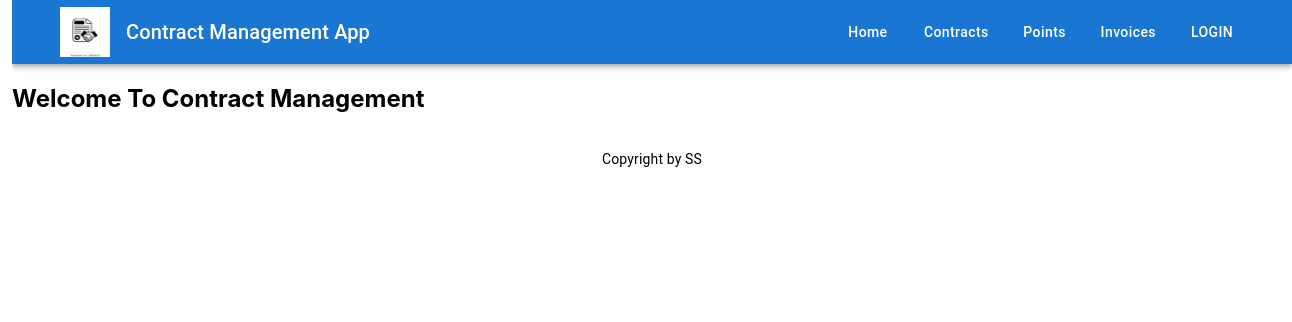
Test: Login and Logout Flow › does not log in with invalid credentials
Click the button with test id "login-link" at (1212, 33), box 1180,14 -> 1244,51
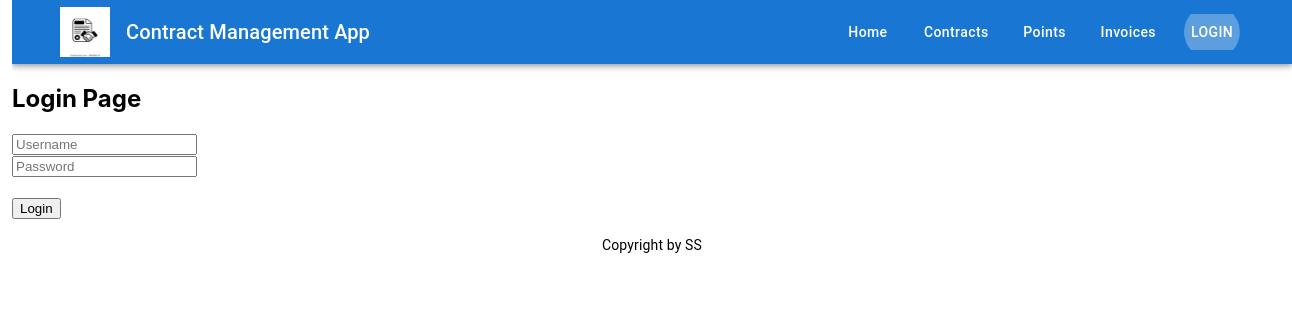
Type "admin" into the field with test id "username" at (105, 145), box 12,134 -> 197,155
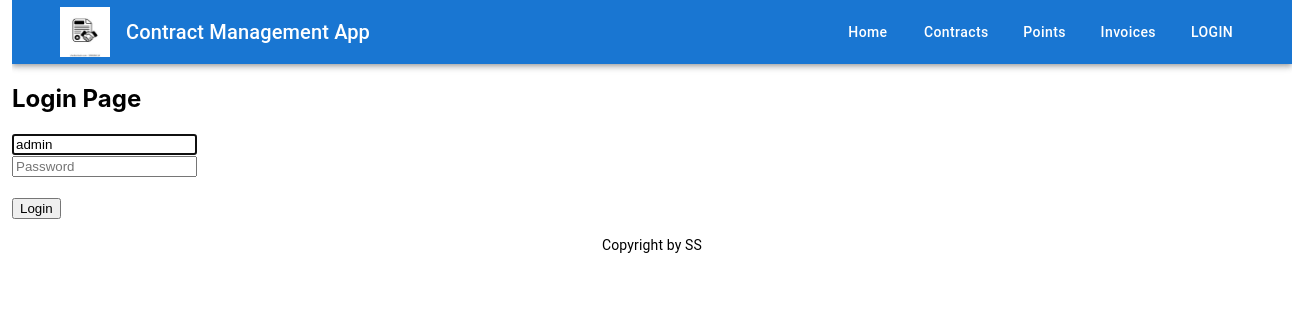
Type "wrongpass" into the password field with test id "password" at (105, 167), box 12,156 -> 197,177
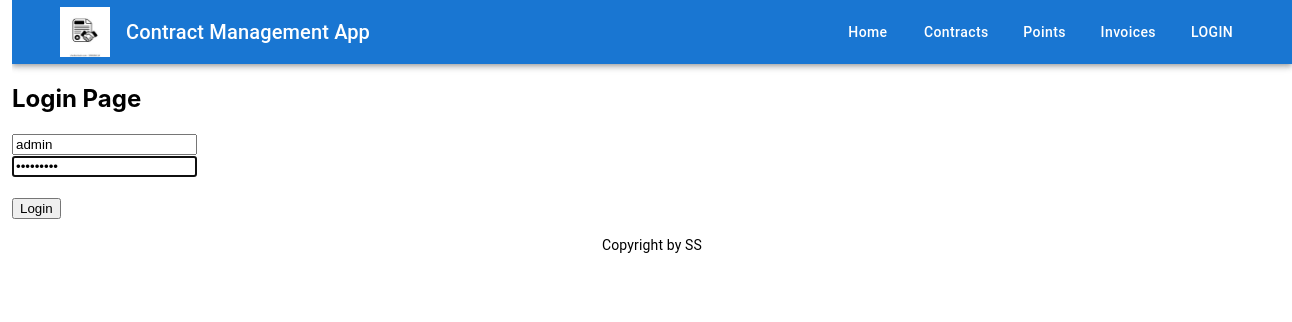
Click the button with test id "login-btn" at (37, 209), box 12,198 -> 61,219
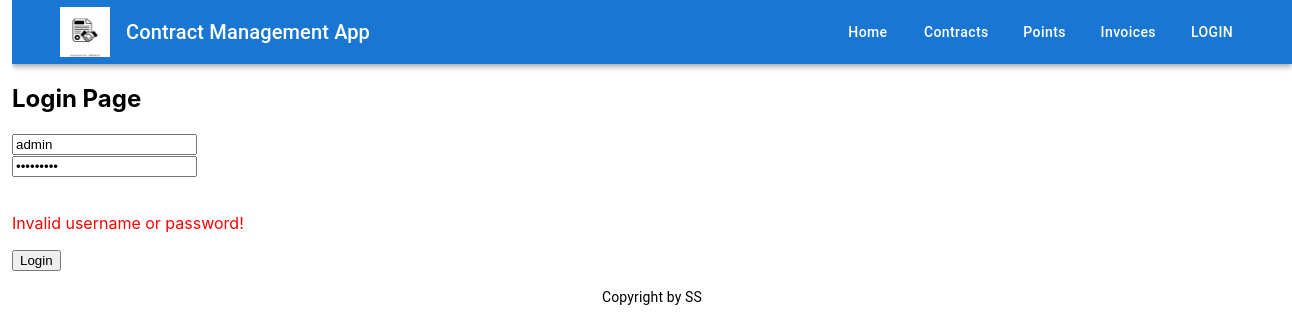
Expected: the text "Invalid username or password!" is shown, 12,213 -> 244,233
